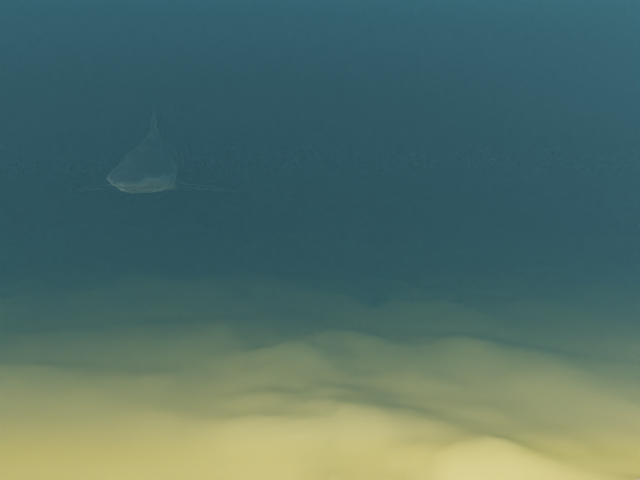Carribean Shark.001: (72, 106, 236, 193)
